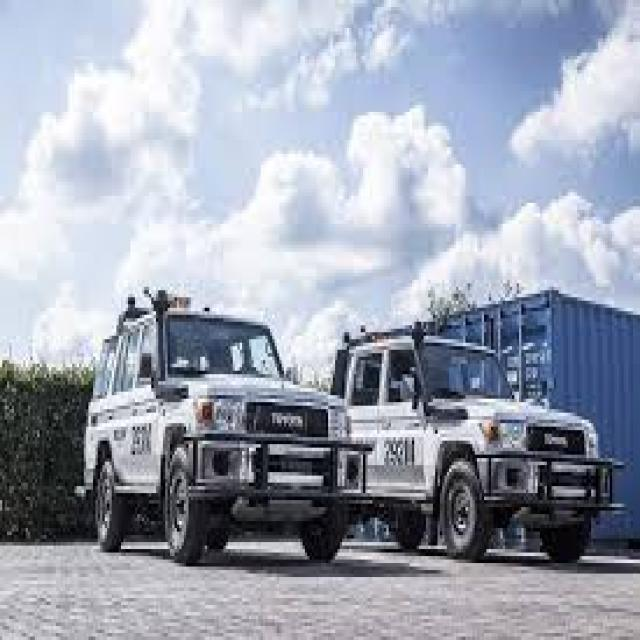light_vehicle: (53, 280, 610, 574)
